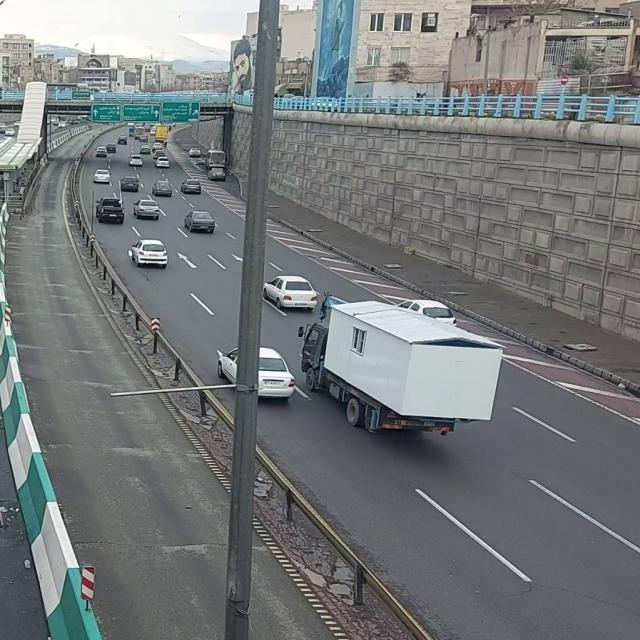Car: (263, 274, 317, 312), (131, 238, 169, 270), (183, 210, 216, 234), (132, 198, 162, 221), (151, 179, 173, 197), (181, 178, 203, 195), (120, 176, 140, 194), (93, 168, 113, 185)
Pickup: (94, 196, 126, 226)
Truck: (299, 302, 505, 437)
